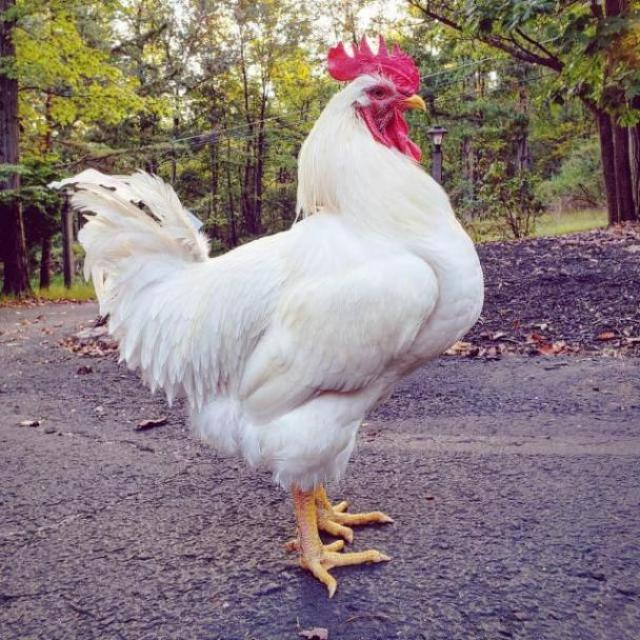Chicken: (64, 55, 504, 593)
